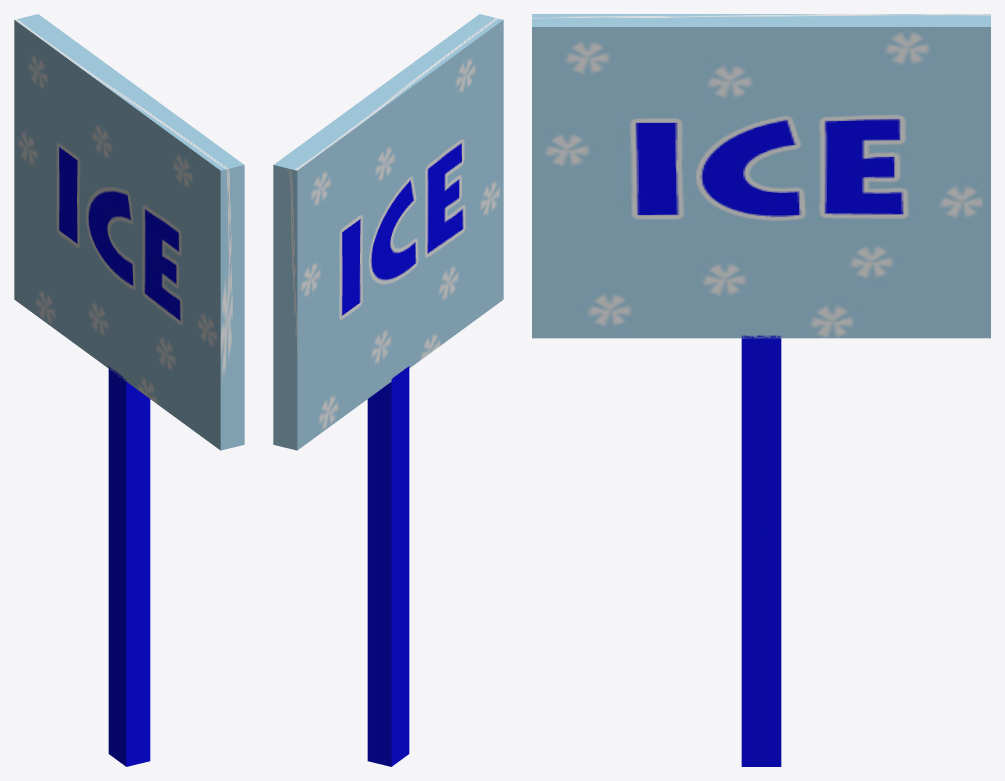
The model's file is icesign.glb.
3 views of the same model, side by side, from view 1: azimuth 30°, elevation 25°; view 2: azimuth 150°, elevation 25°; view 3: azimuth 270°, elevation 25° (orthographic). The views are drawn at different scales.
Visible parts, largest first — view 1: icesign1; view 2: icesign1; view 3: icesign1.
Boxes of the visible parts, x1,y1,x2,y2 form: icesign1: (14,14,244,766); icesign1: (273,14,503,766); icesign1: (532,14,990,766).
Size of the model in its own units: 0.6 by 15.99 by 8.99.
1 material, 1 textured.
